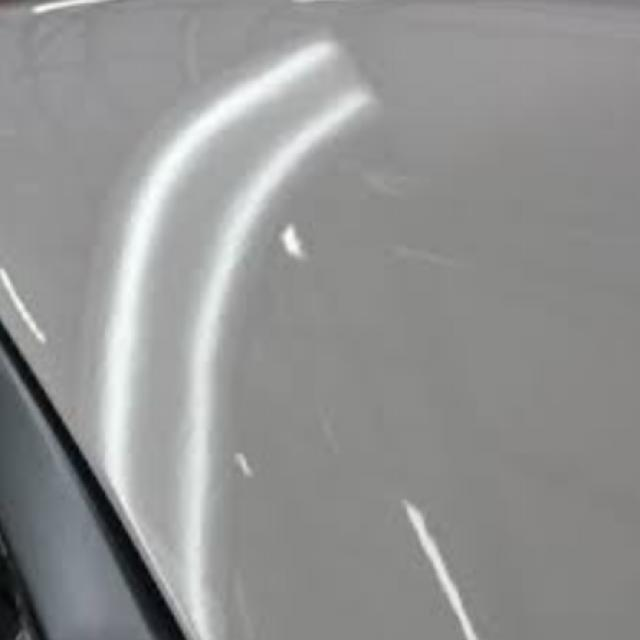dents: (268, 203, 338, 283)
